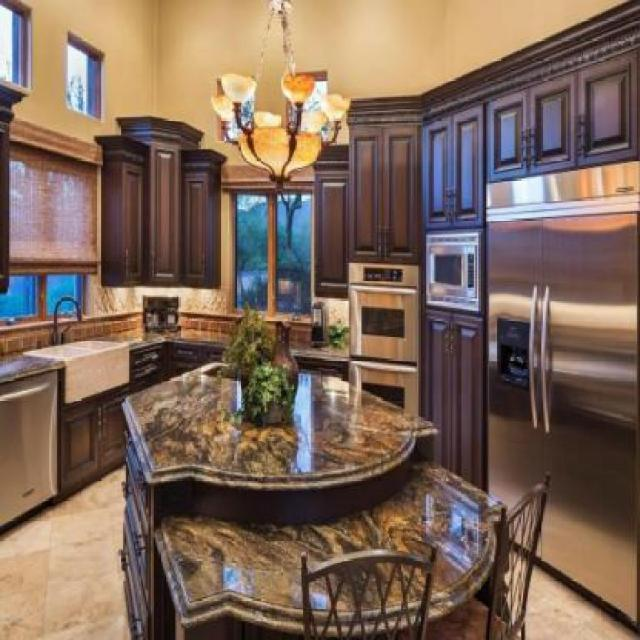Floor: (0, 464, 131, 638), (526, 564, 638, 638)
